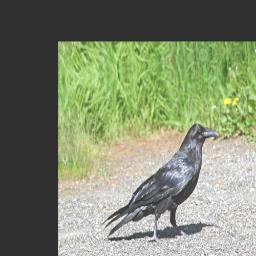Crow: (92, 119, 228, 256)
